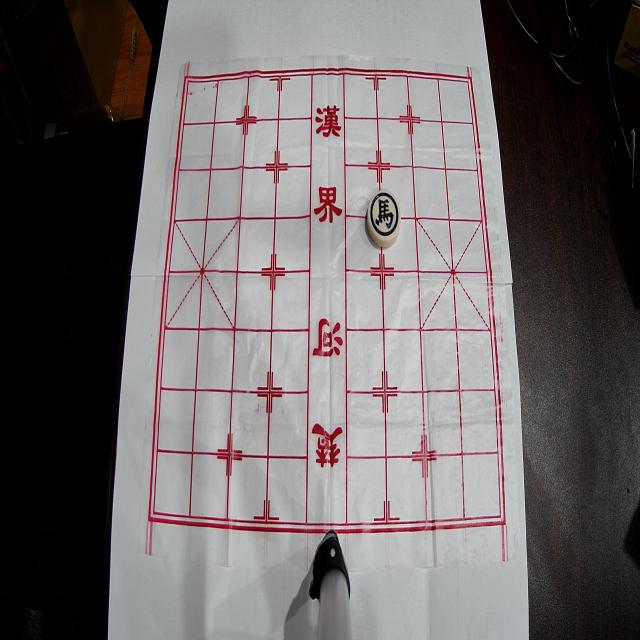black-horse: (367, 190, 401, 248)
